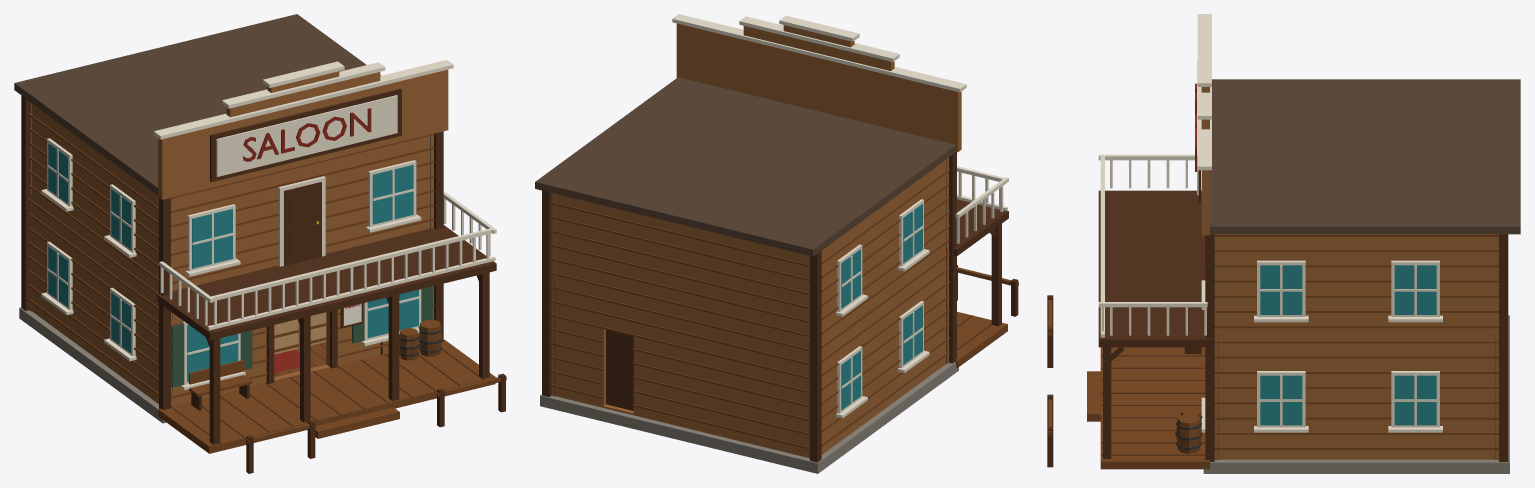
File: Building_SaloonInterior.fbx
The picture shows the model from 3 angles, left to right: view 1: azimuth 30°, elevation 25°; view 2: azimuth 150°, elevation 25°; view 3: azimuth 270°, elevation 25°; orthographic projection. The views are drawn at different scales.
Parts seen in each view (by area): view 1: SaloonInterior_Upper, Building_SaloonInterior, SaloonInterior_Roof; view 2: SaloonInterior_Upper, Building_SaloonInterior, SaloonInterior_Roof; view 3: Building_SaloonInterior, SaloonInterior_Roof, SaloonInterior_Upper.
Part boxes in pixels (left/top/right/bottom): SaloonInterior_Upper: left=21, top=60, right=496, bottom=330; Building_SaloonInterior: left=19, top=190, right=506, bottom=473; SaloonInterior_Roof: left=14, top=14, right=380, bottom=194; SaloonInterior_Upper: left=542, top=14, right=1008, bottom=346; Building_SaloonInterior: left=540, top=199, right=1018, bottom=473; SaloonInterior_Roof: left=535, top=77, right=956, bottom=256; Building_SaloonInterior: left=1047, top=190, right=1509, bottom=473; SaloonInterior_Roof: left=1210, top=79, right=1520, bottom=234; SaloonInterior_Upper: left=1098, top=14, right=1508, bottom=337.
Bounding box in the file's own units: 8.6 × 8.85 × 11.27.
